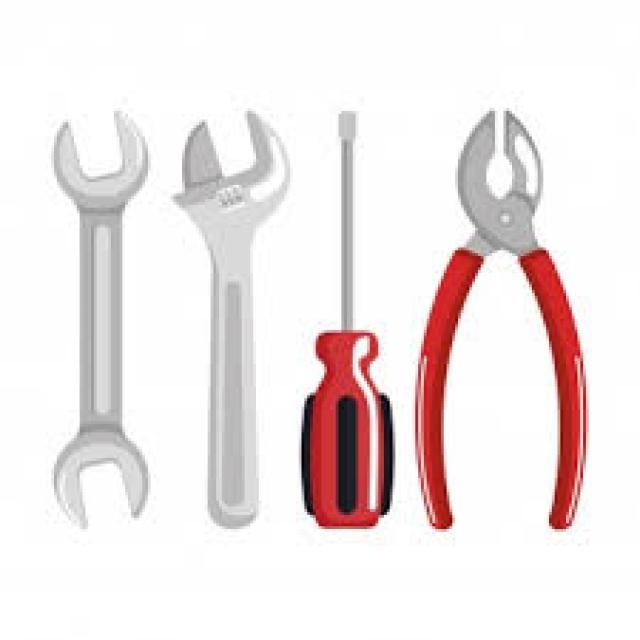wrench: (170, 90, 290, 537)
